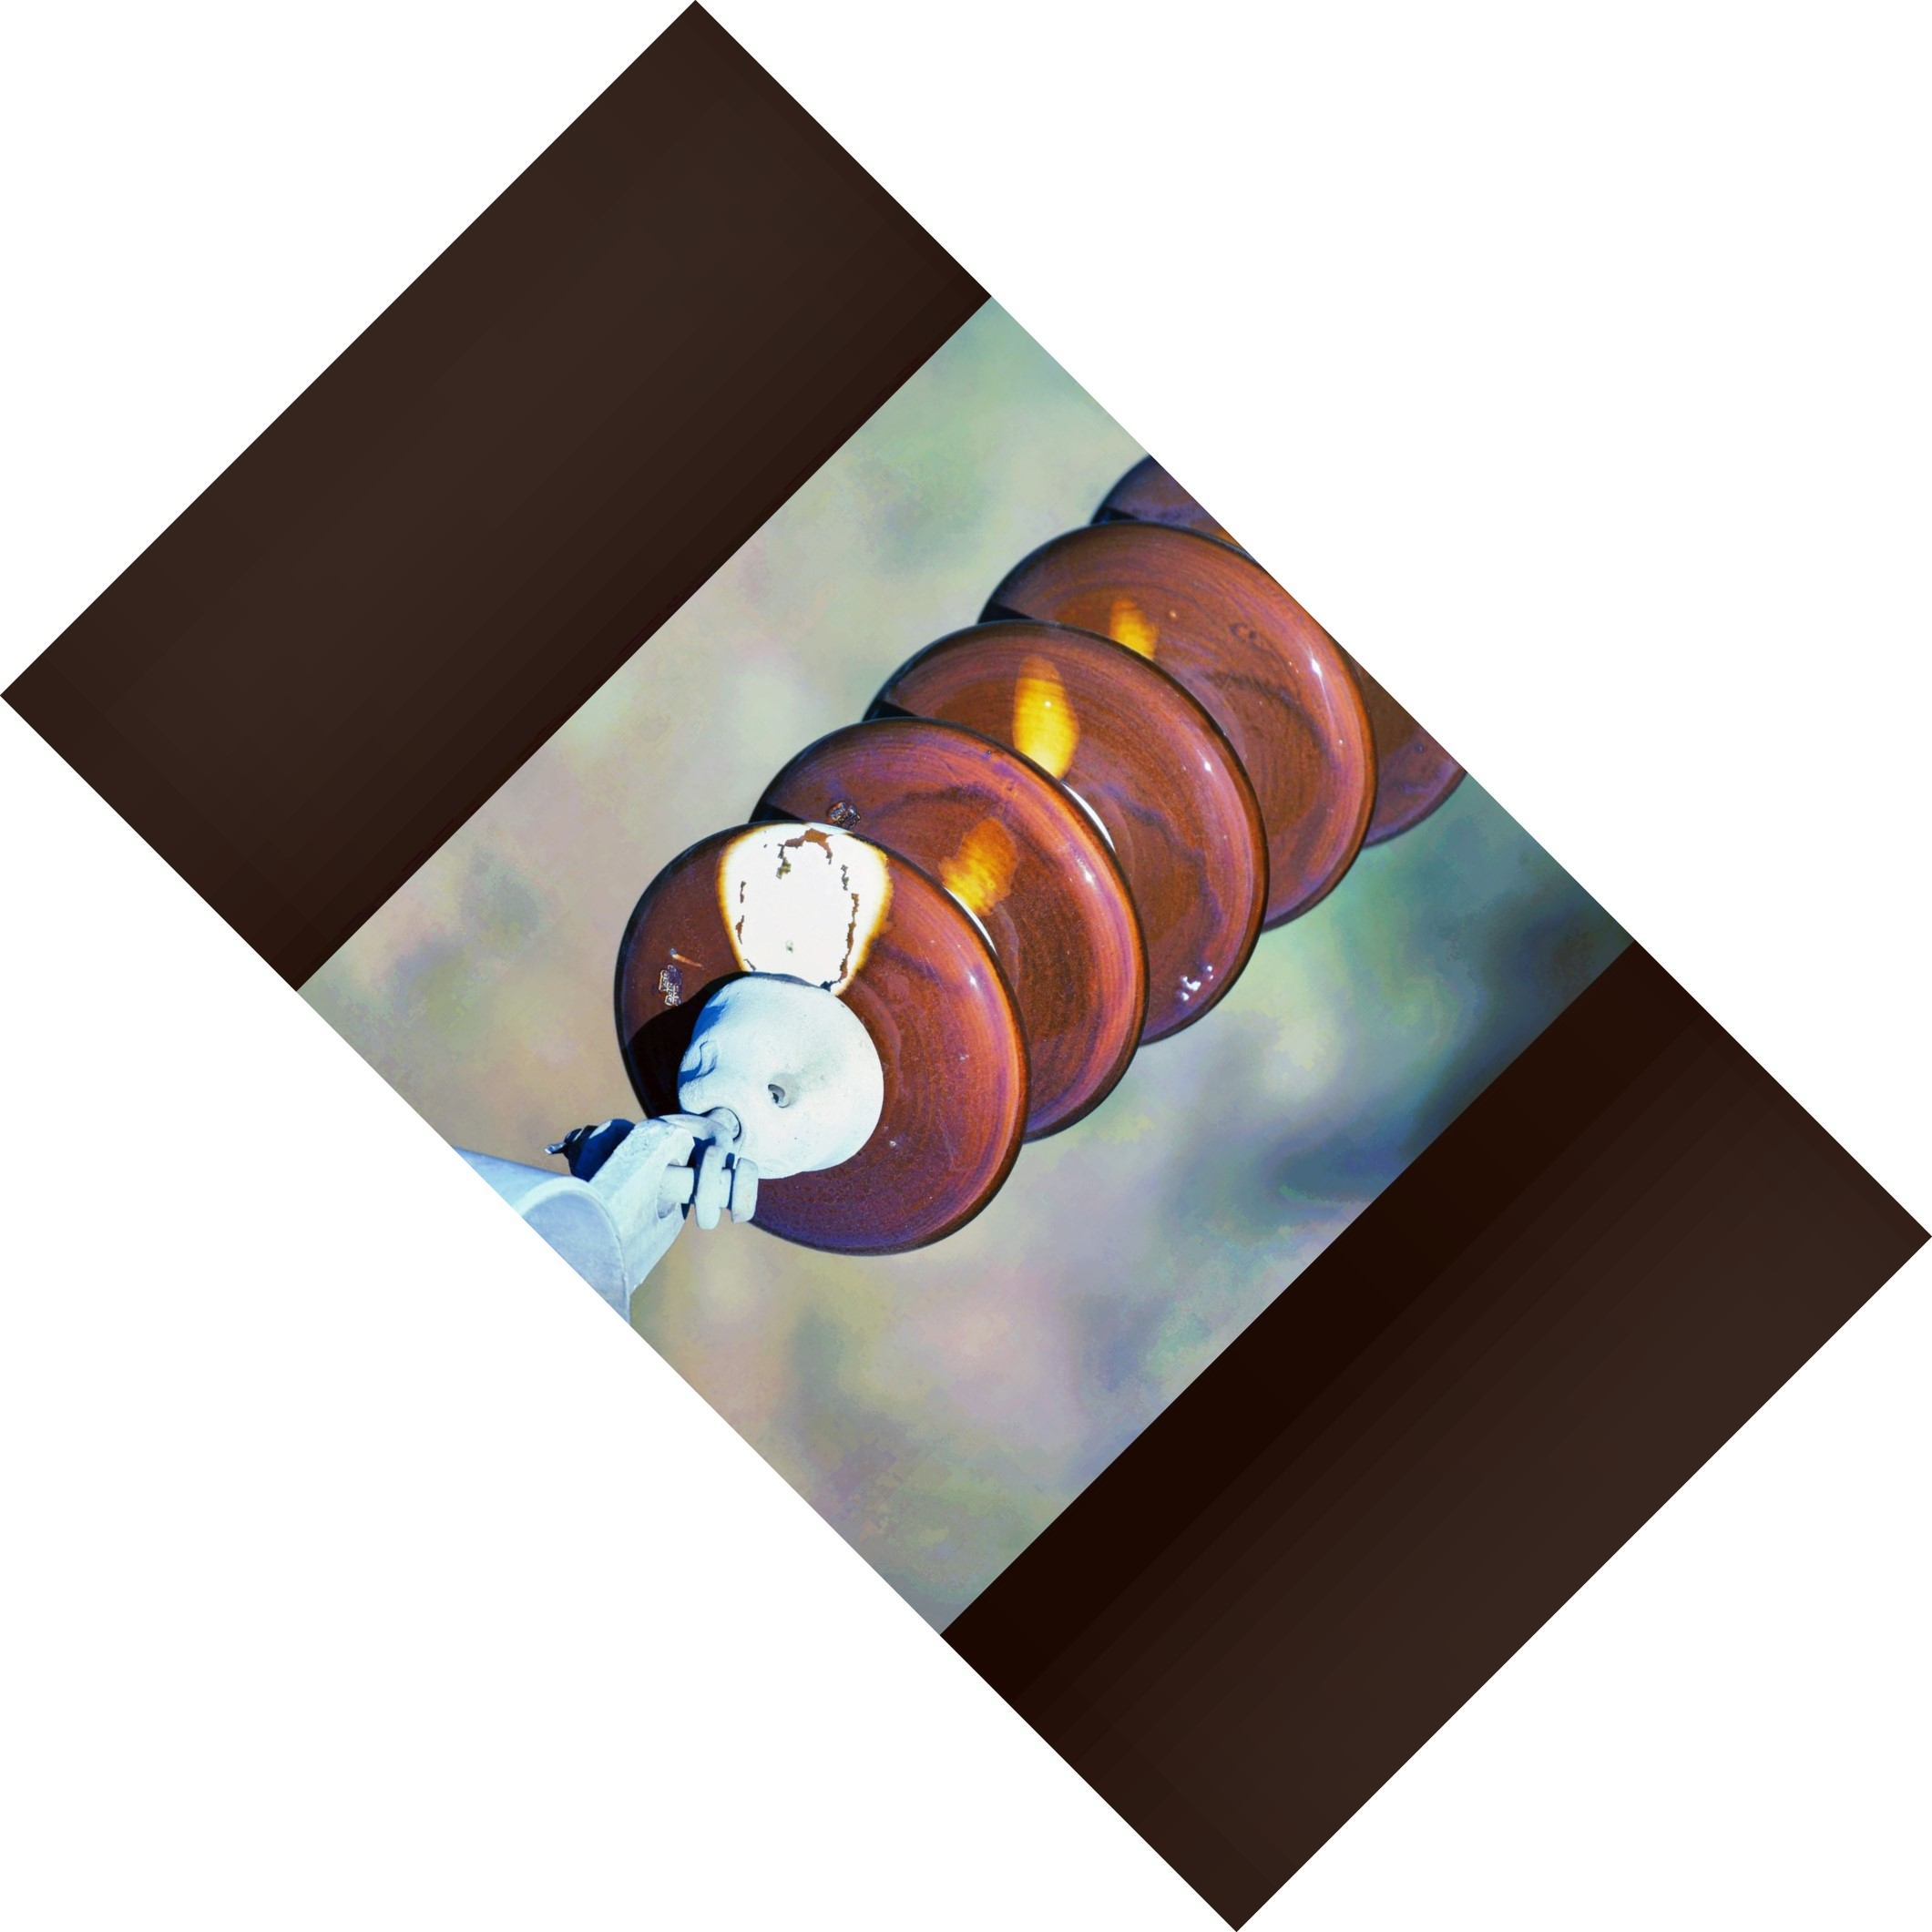Insulator flashover: (594, 789, 1039, 1284)
